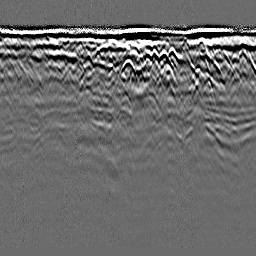cavity: (120, 56, 136, 79)
